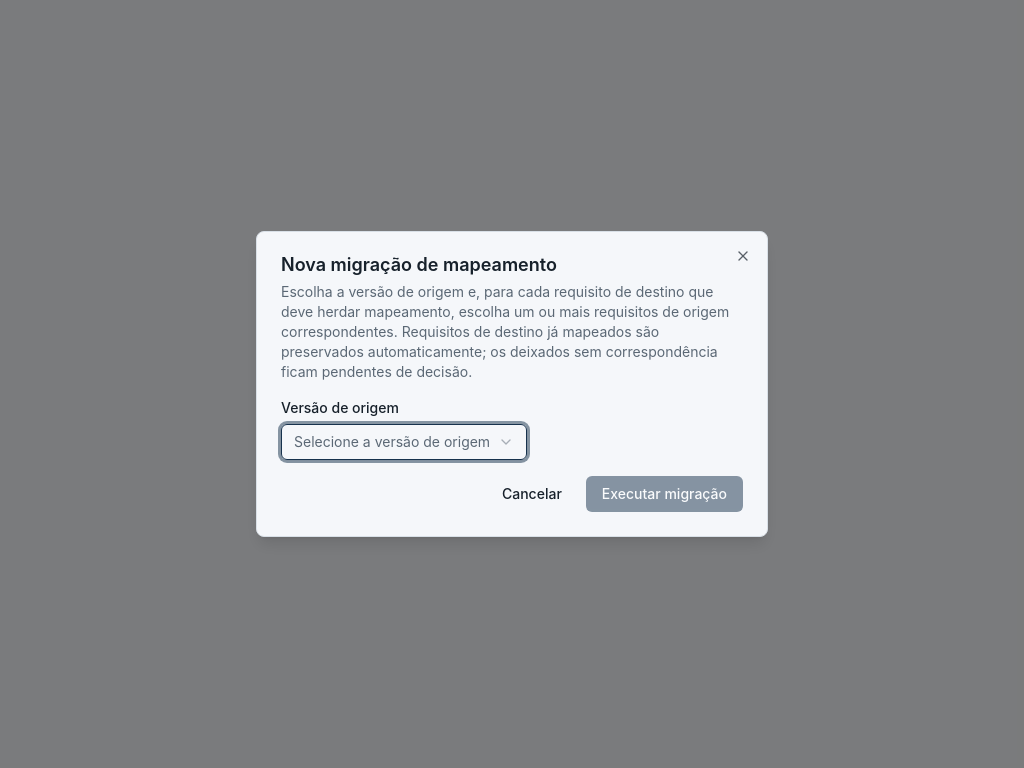
Test: MappingMigrationDialog › shows the pending-decision result as unfinished work, never as success
Click the dropdown labelled "versão de origem": click(404, 442) left=281, top=424, right=527, bottom=460
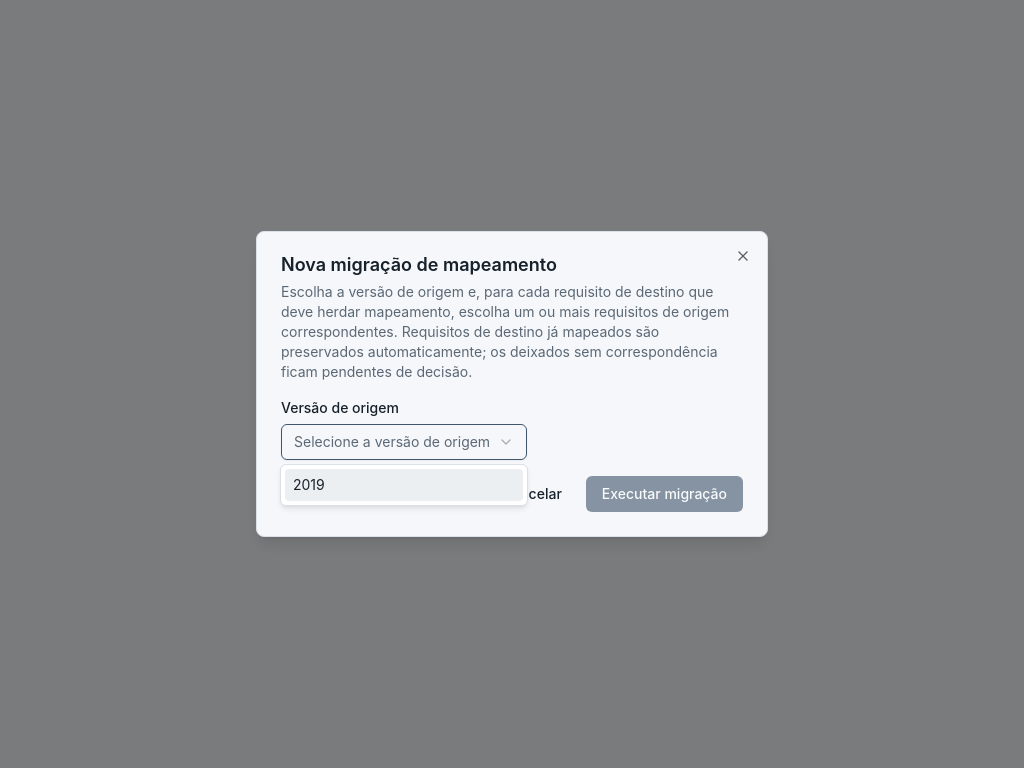
Click the option "2019": click(404, 485) left=285, top=469, right=523, bottom=501
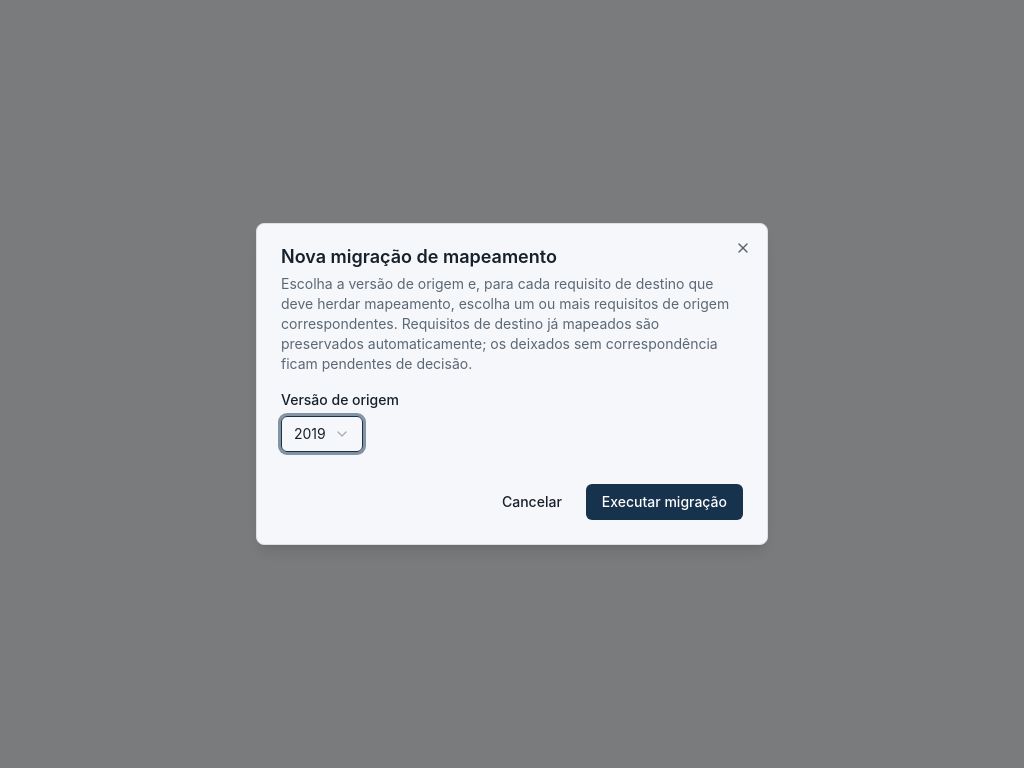
Click the button "Executar migração": click(664, 502) left=586, top=484, right=743, bottom=520
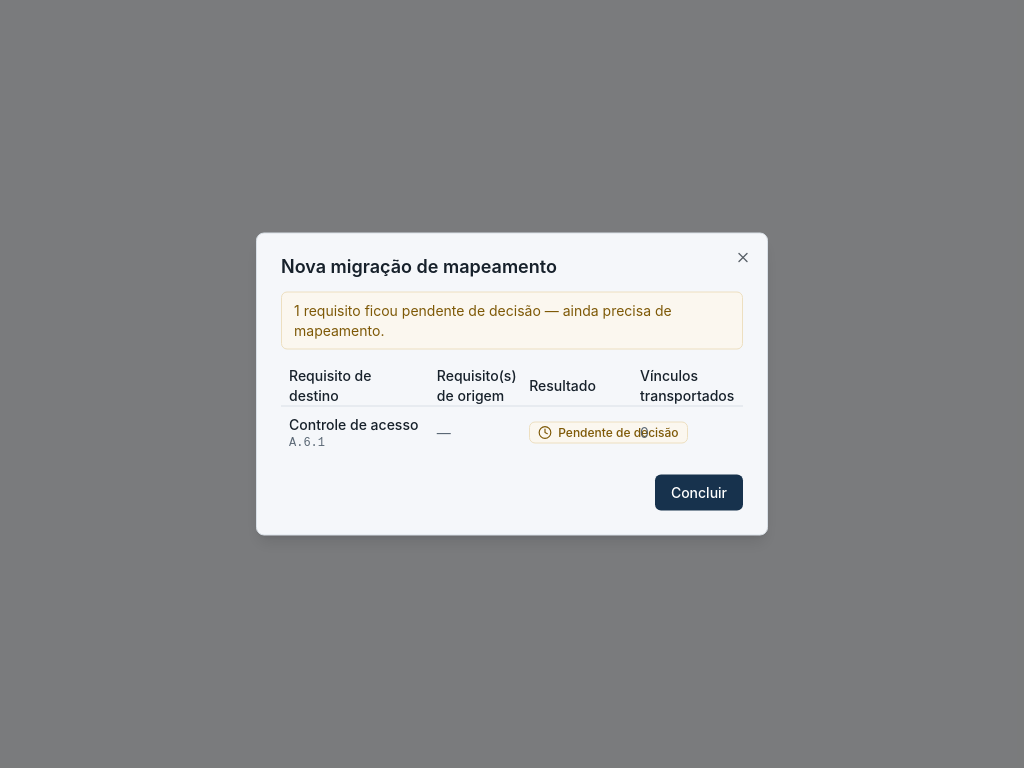
Check: the text "1 requisito ficou pendente de decisão — ainda precisa de mapeamento." is shown, box left=281, top=292, right=743, bottom=350
Check: the text "Pendente de decisão" is shown, box left=558, top=424, right=679, bottom=440
